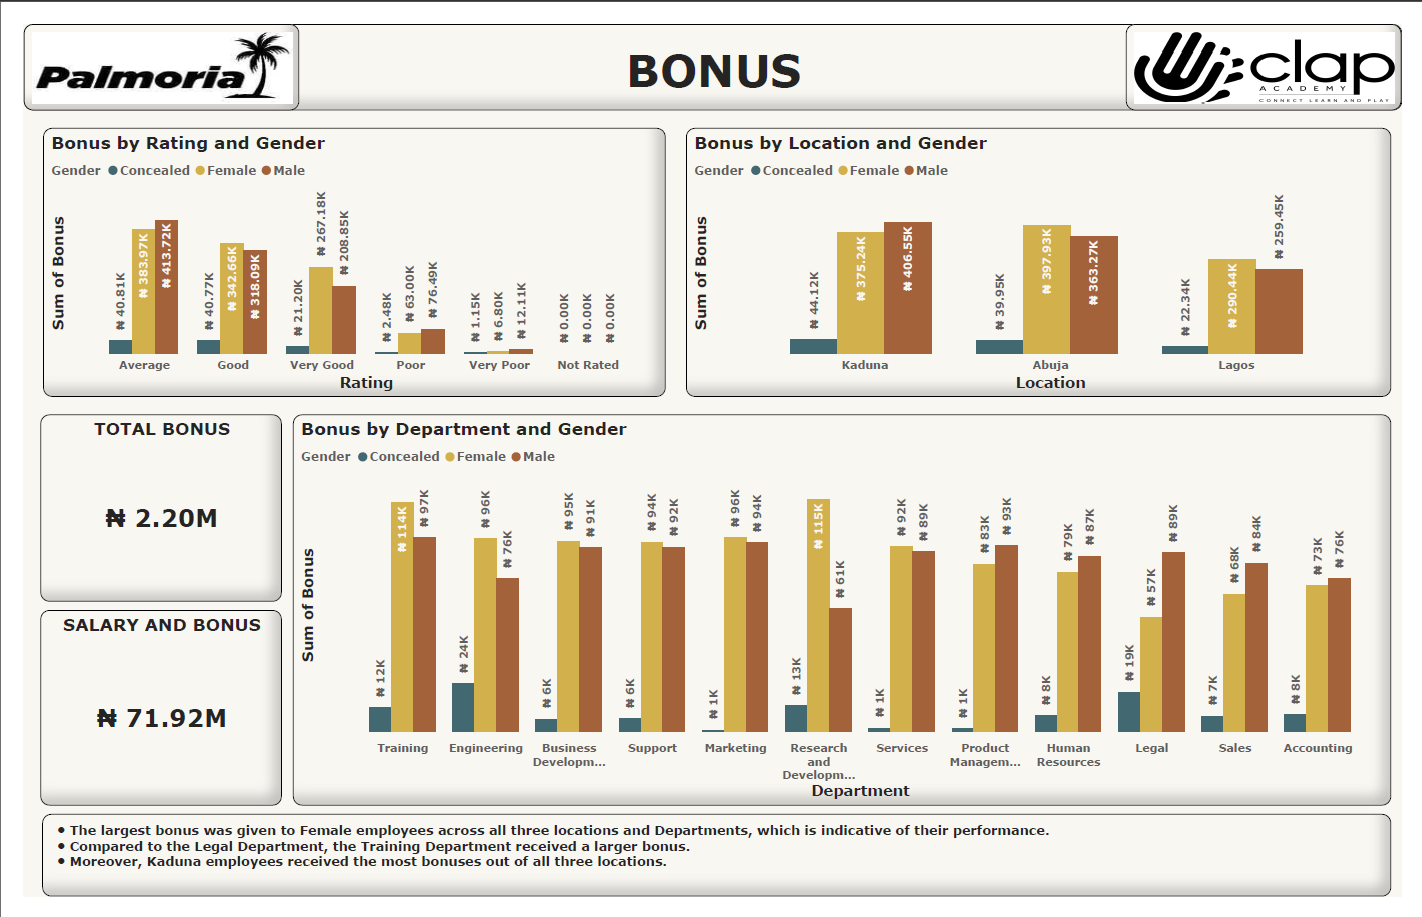

The dashboard page shown, as its layout file describes it:
{"tool":"powerbi","page":{"name":"Bonus","canvas":[1500,950],"ordinal":6},"visuals":[{"type":"textbox","box":[0,0,1500.9,94.3],"z":0,"group":"g1"},{"type":"clusteredColumnChart","title":"Bonus by Rating and Gender","fields":{"Y":["Sum(Palmoria Data.Bonus)"],"Category":["Palmoria Data.Rating"],"Series":["Palmoria Data.Gender"]},"box":[20.7,113,677.9,292.8],"z":0},{"type":"image","box":[1200.2,0,300.1,94.1],"z":1000,"group":"g1"},{"type":"clusteredColumnChart","title":"Bonus by Department and Gender","fields":{"Category":["Palmoria Data.Department"],"Y":["Sum(Palmoria Data.Bonus)"],"Series":["Palmoria Data.Gender"]},"box":[293.2,425.5,1195.9,425.5],"z":1000},{"type":"image","box":[0,0,300.1,94],"z":2000,"group":"g1"},{"type":"clusteredColumnChart","title":"Bonus by Location and Gender","fields":{"Series":["Palmoria Data.Gender"],"Category":["Palmoria Data.Location"],"Y":["Sum(Palmoria Data.Bonus)"]},"box":[720.9,113,768.6,292.8],"z":2000},{"type":"textbox","box":[20.5,860.5,1468.6,90],"z":3000},{"type":"card","title":" TOTAL BONUS","fields":{"Values":["Sum(Palmoria Data.Bonus)"]},"box":[17.7,425.5,263.2,203.2],"z":4000},{"type":"card","title":"SALARY AND BONUS","fields":{"Values":["Sum(Palmoria Data.Salary Bonus)"]},"box":[17.7,638.2,263.2,212.7],"z":5000},{"type":"group","id":"g1","title":"Group 1","box":[0,0,1500.9,94.3],"z":6000}]}

Visuals, with their boxes in screenshot pixels (x1, y1, x2, y2), scaled from the page's 1500x950 canvas onto the 1422x917 screenshot:
textbox: pyautogui.locateOnScreen(0, 0, 1421, 91)
"Bonus by Rating and Gender" clusteredColumnChart: pyautogui.locateOnScreen(20, 109, 662, 392)
image: pyautogui.locateOnScreen(1138, 0, 1421, 91)
"Bonus by Department and Gender" clusteredColumnChart: pyautogui.locateOnScreen(278, 411, 1412, 821)
image: pyautogui.locateOnScreen(0, 0, 284, 91)
"Bonus by Location and Gender" clusteredColumnChart: pyautogui.locateOnScreen(683, 109, 1412, 392)
textbox: pyautogui.locateOnScreen(19, 831, 1412, 916)
" TOTAL BONUS" card: pyautogui.locateOnScreen(17, 411, 266, 607)
"SALARY AND BONUS" card: pyautogui.locateOnScreen(17, 616, 266, 821)
"Group 1" group: pyautogui.locateOnScreen(0, 0, 1421, 91)
